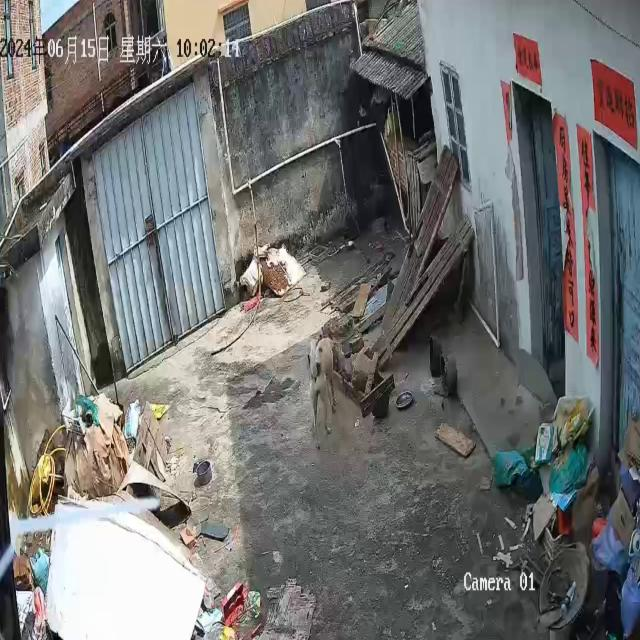dog: (307, 336, 338, 451)
